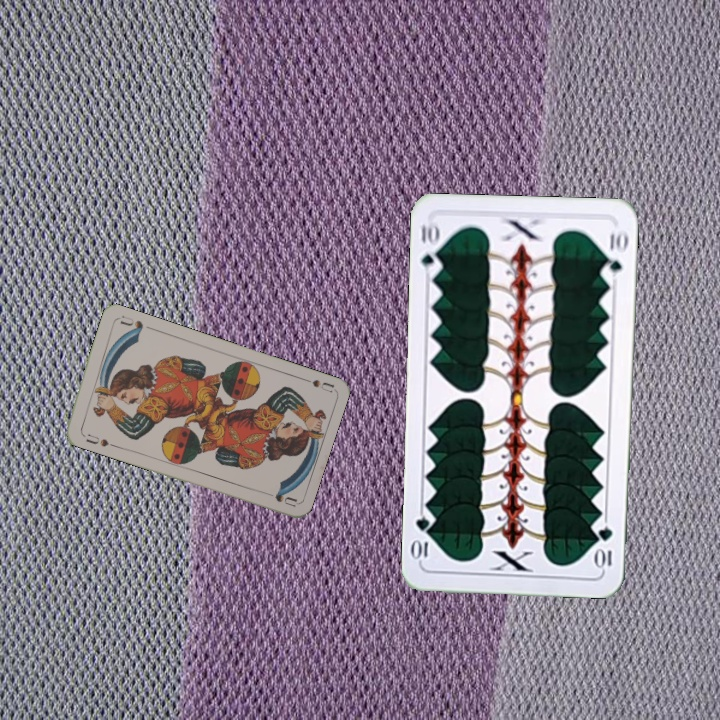G10: (417, 218, 444, 277), (594, 523, 615, 572)
SU: (295, 373, 336, 395), (82, 430, 117, 450)
